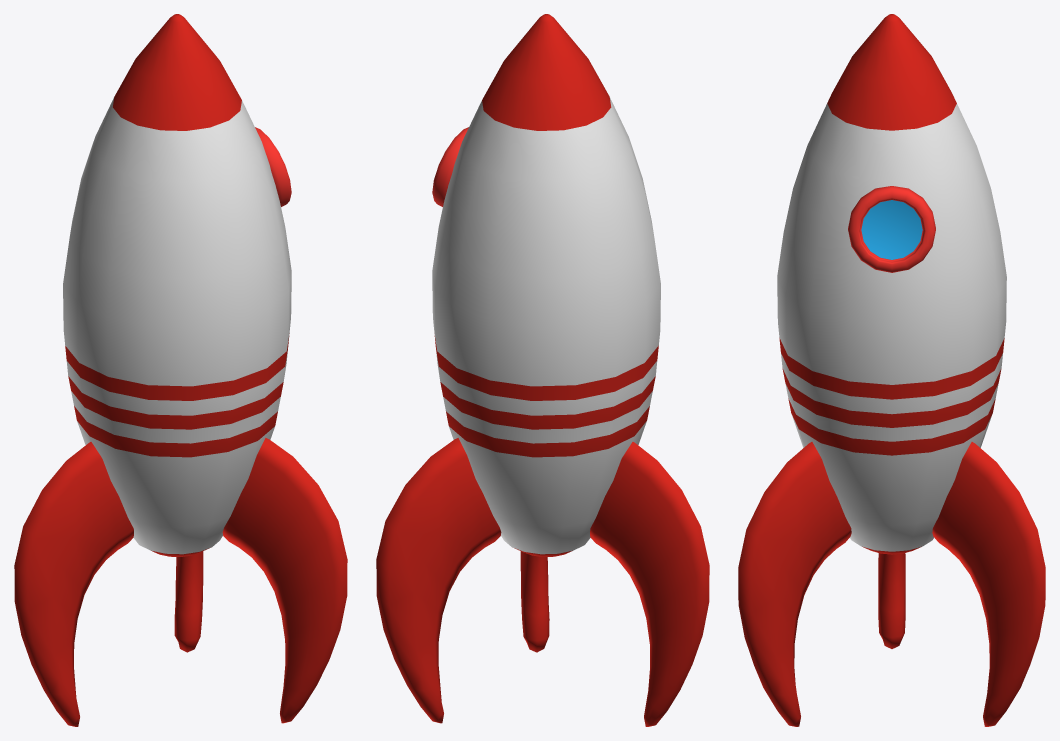
File: Rocket.fbx
The picture shows the model from 3 angles, left to right: view 1: azimuth 30°, elevation 25°; view 2: azimuth 150°, elevation 25°; view 3: azimuth 270°, elevation 25°; orthographic projection.
Visible parts, largest first — view 1: Rocket; view 2: Rocket; view 3: Rocket.
Part boxes in pixels (bbox=[...]): Rocket: bbox=[14, 14, 347, 726]; Rocket: bbox=[376, 14, 709, 726]; Rocket: bbox=[738, 14, 1045, 726].
Bounding box in the file's own units: 16.55 × 41.19 × 16.81.
